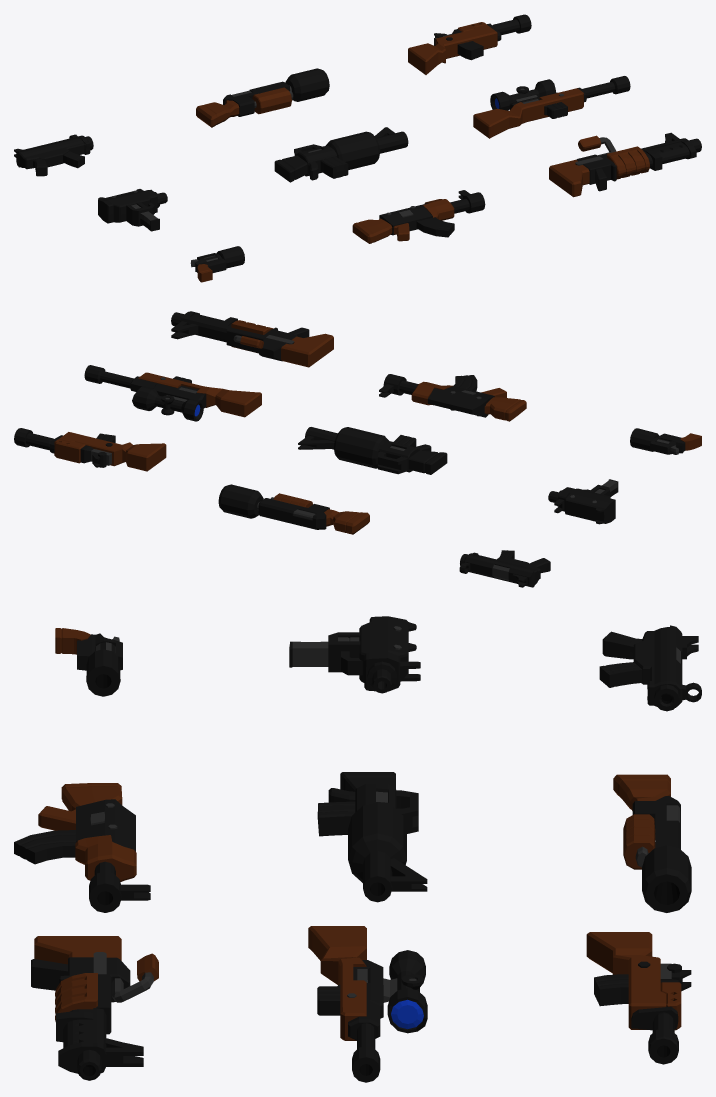
File: Gunpack.obj
3 renders of one model, top to bottom at view 1: azimuth 30°, elevation 25°; view 2: azimuth 150°, elevation 25°; view 3: azimuth 270°, elevation 25°, orthographic. The views are drawn at different scales.
Parts seen in each view (by area): view 1: 9, 8, 4, 1, 6, 2, 3, 7, 5; view 2: 8, 9, 4, 1, 2, 6, 7, 3, 5; view 3: 9, 8, 6, 4, 2, 1, 3, 7, 5.
Part boxes in pixels (box(x1,y1,x2,y2)): 9: box(549, 132, 701, 197); 8: box(473, 76, 630, 138); 4: box(274, 127, 408, 182); 1: box(196, 68, 329, 127); 6: box(352, 190, 485, 243); 2: box(408, 14, 531, 74); 3: box(98, 189, 167, 231); 7: box(14, 134, 93, 176); 5: box(190, 246, 244, 282); 8: box(84, 365, 261, 421); 9: box(171, 311, 333, 367); 4: box(298, 427, 447, 474); 1: box(218, 484, 369, 534); 2: box(14, 428, 166, 471); 6: box(379, 374, 526, 421); 7: box(459, 550, 550, 587); 3: box(548, 479, 618, 524); 5: box(630, 428, 701, 454); 9: box(31, 936, 158, 1080); 8: box(308, 926, 427, 1082); 6: box(14, 783, 150, 912); 4: box(317, 772, 427, 902); 2: box(586, 932, 691, 1064); 1: box(613, 774, 691, 912); 3: box(289, 616, 420, 693); 7: box(599, 625, 701, 711); 5: box(55, 628, 122, 696).
Size of the model in its own units: 7.63 by 0.4745 by 4.91.
